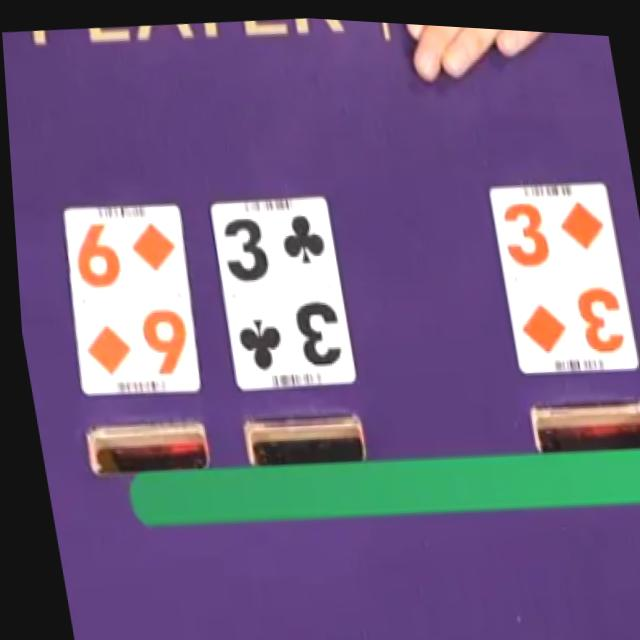Card-3: (486, 174, 633, 365), (208, 192, 350, 384)
Card-6: (58, 202, 193, 392)
